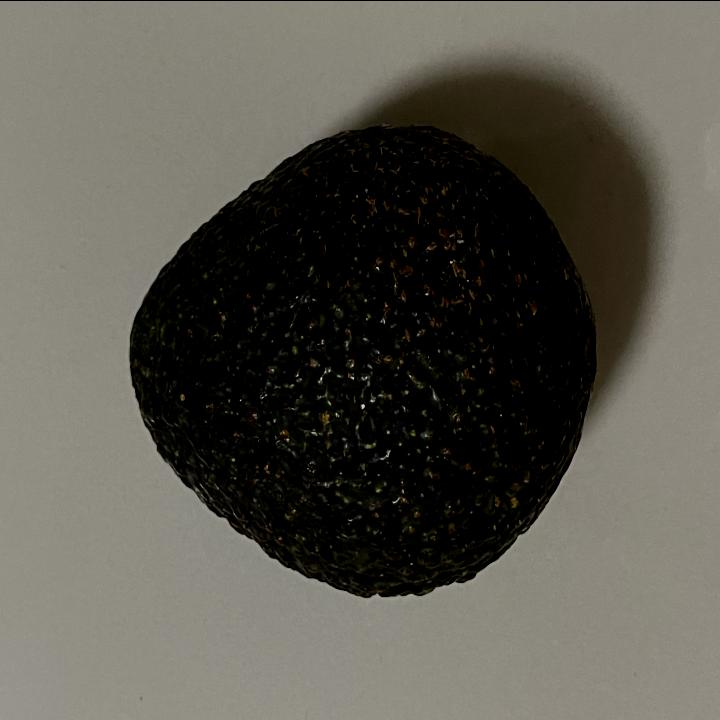Level1: (114, 107, 605, 612)
